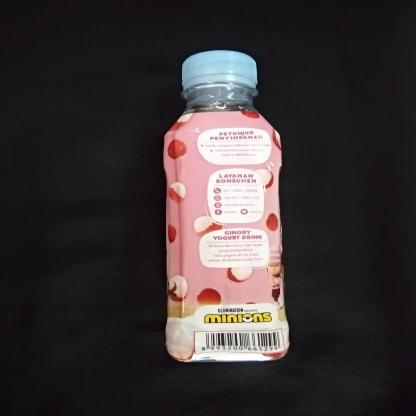plastic: (156, 47, 295, 365)
